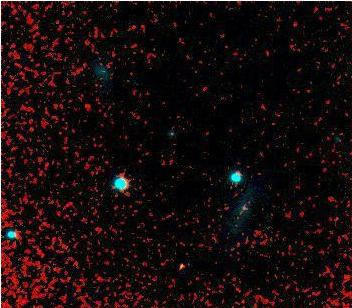star: (173, 255, 203, 285)
